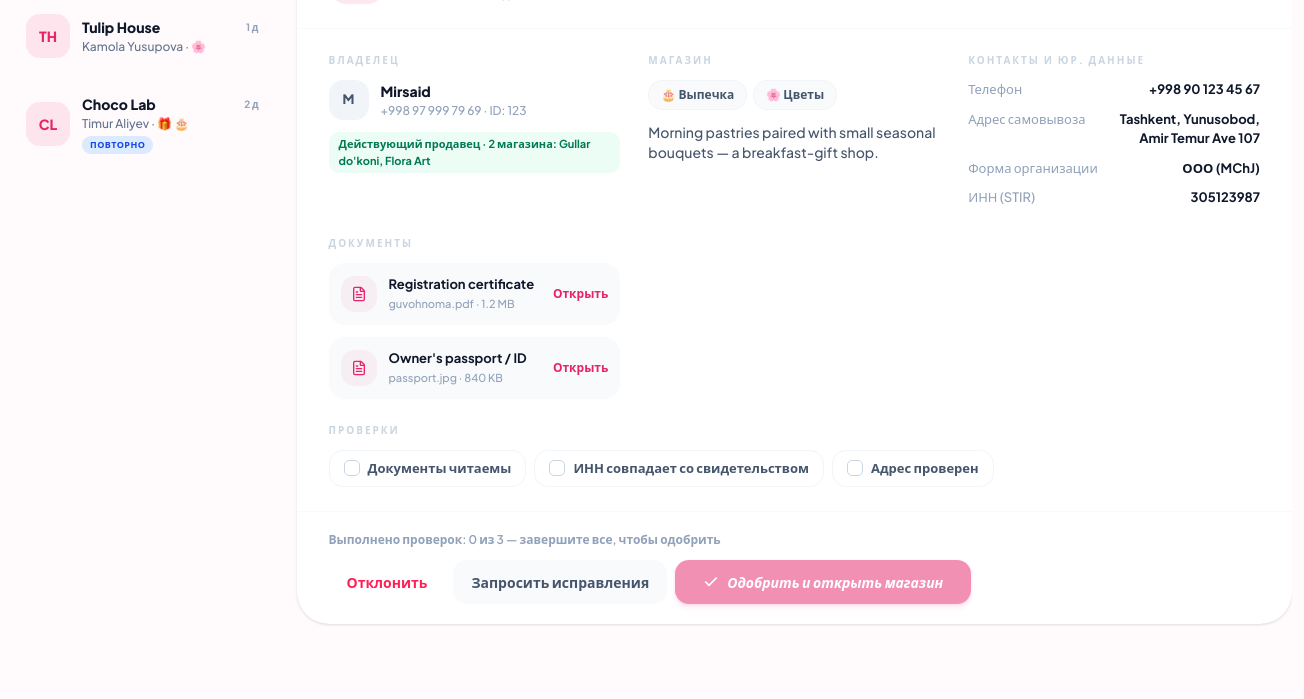
ShopRequestsPage localized › reviews in Russian: plural owner tag, hint, presets and toast
The width and height of the screenshot is (1304, 699).
Expected: the text "Действующий продавец · 2 магазина: Gullar do'koni, Flora Art" is shown, [328,132,620,173]
Expected: the text "Выполнено проверок: 0 из 3 — завершите все, чтобы одобрить" is shown, [328,532,721,548]
Click the button "Запросить исправления".
click(560, 582)  # box [454,560,667,604]
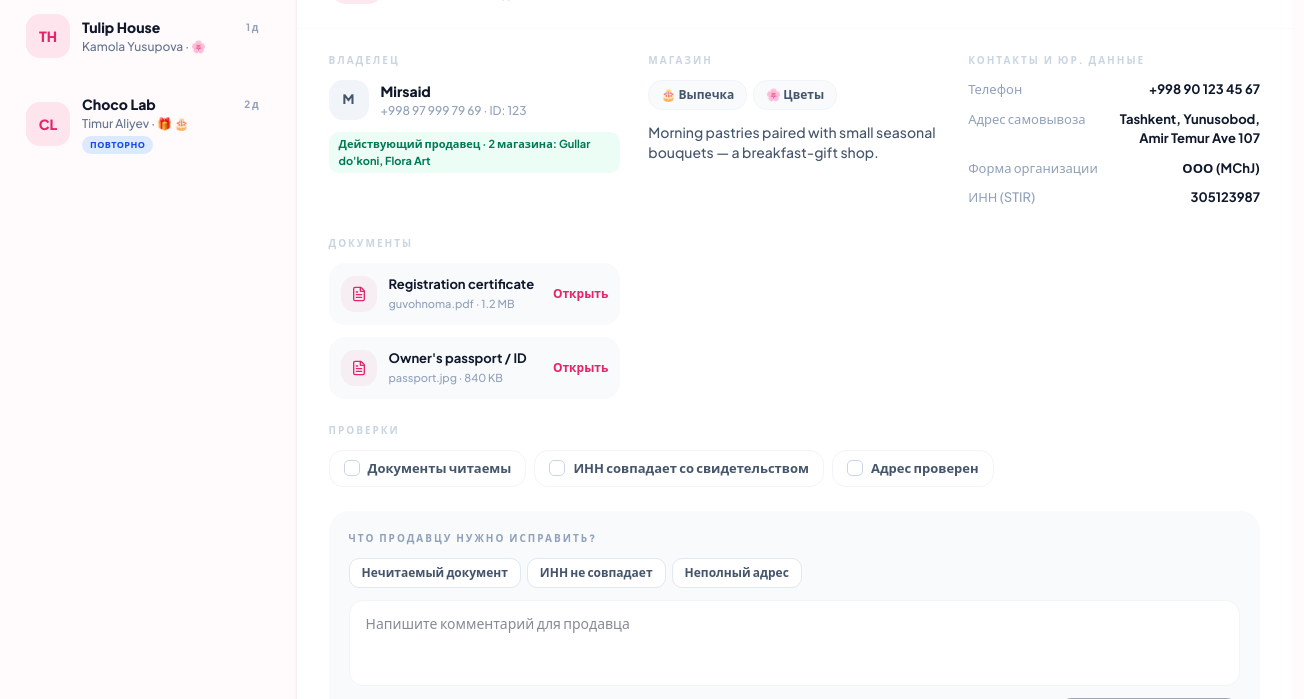
Click the button "Неполный адрес".
click(737, 573)  # box [672,558,802,588]
(page scrolled)
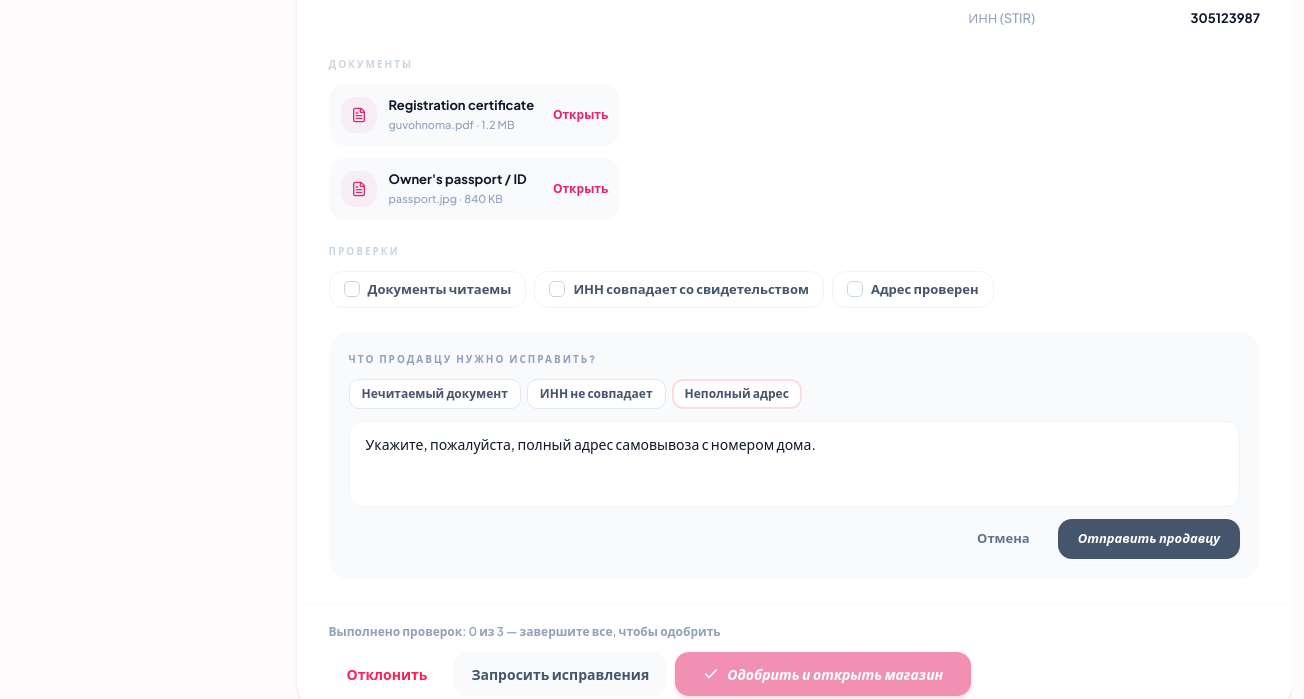
Click the button "Отправить продавцу".
click(1149, 539)  # box [1058,519,1240,559]
(page scrolled)
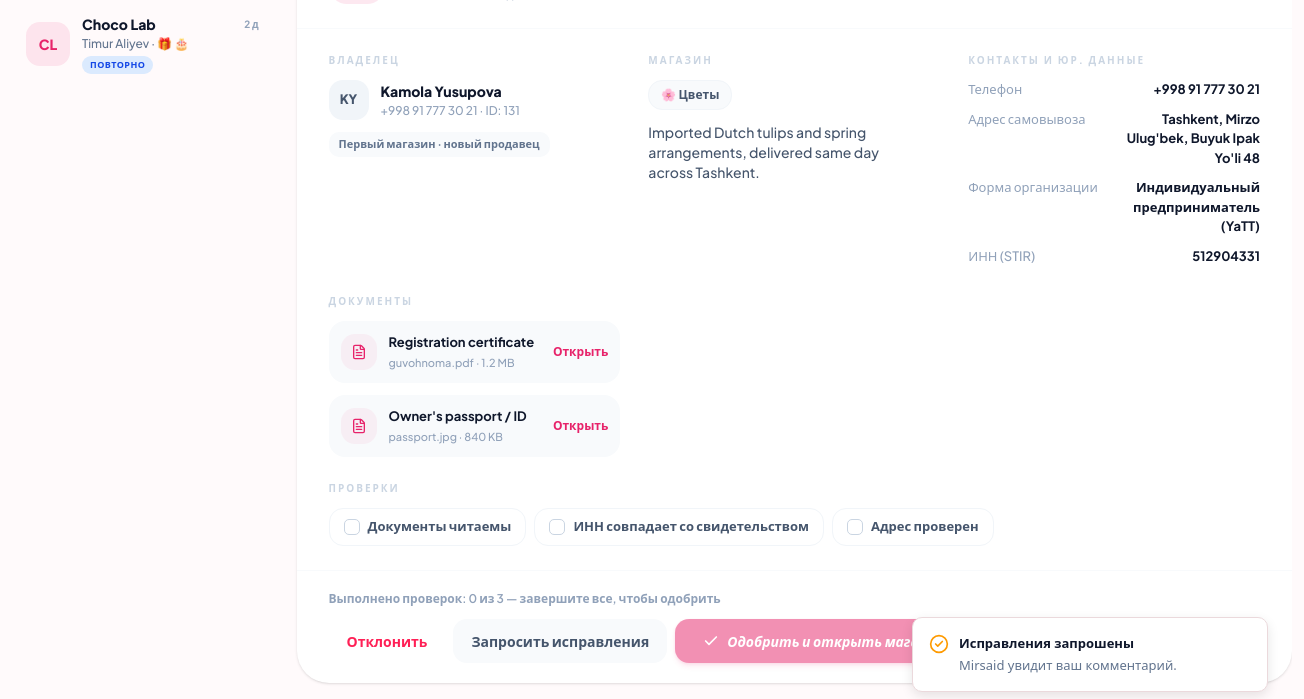
Expected: the text "Исправления запрошены" is shown, [959,634,1134,652]
Expected: the text "Mirsaid увидит ваш комментарий." is shown, [959,656,1177,675]
